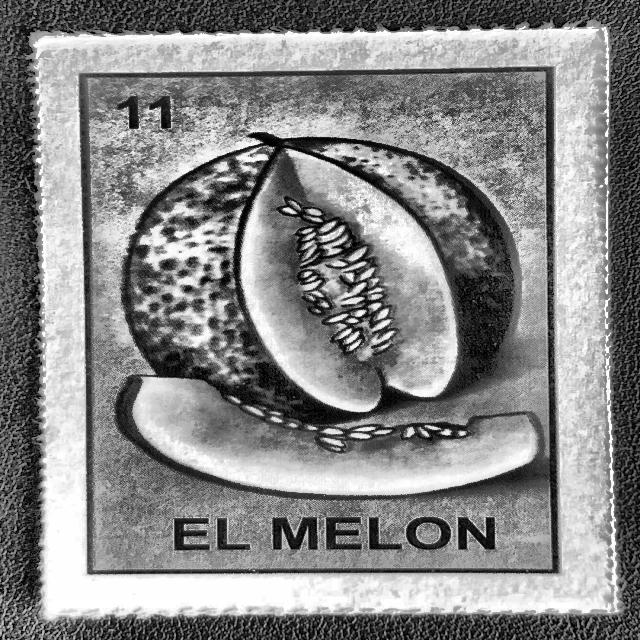El Melon: (63, 50, 589, 593)
